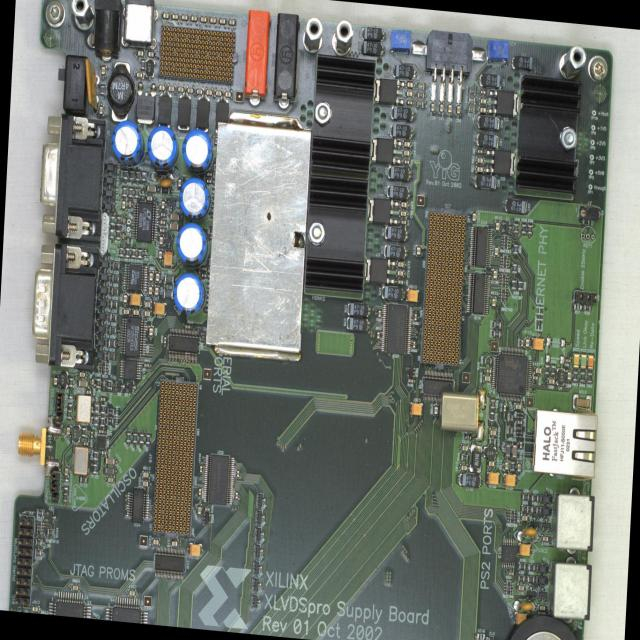Capacitor Jumper: (571, 392, 593, 412), (104, 455, 116, 466), (145, 184, 158, 194), (168, 222, 180, 231), (77, 381, 89, 390), (168, 213, 180, 221), (511, 443, 517, 459), (170, 12, 180, 21), (208, 16, 218, 25), (70, 583, 80, 592), (30, 604, 40, 613), (494, 220, 501, 232), (143, 300, 152, 309), (533, 366, 542, 375), (460, 443, 469, 452), (106, 475, 115, 484), (136, 49, 145, 58), (405, 89, 414, 98), (176, 85, 185, 94), (395, 269, 405, 277), (145, 194, 154, 202), (160, 198, 166, 210), (416, 245, 422, 257), (396, 260, 404, 269), (148, 270, 154, 282), (122, 292, 128, 304), (524, 336, 530, 348), (162, 11, 170, 20), (180, 13, 189, 21), (148, 326, 154, 338), (566, 369, 572, 381), (482, 374, 491, 382), (77, 370, 86, 378), (433, 404, 439, 416), (52, 375, 58, 387), (488, 428, 497, 436), (503, 460, 509, 472), (459, 463, 468, 471), (520, 514, 529, 522), (541, 534, 550, 542), (196, 503, 202, 515), (151, 537, 160, 545), (537, 604, 546, 612), (127, 589, 136, 597), (405, 81, 414, 89), (478, 98, 487, 106), (135, 71, 144, 79), (478, 106, 487, 114), (157, 84, 166, 92), (186, 86, 194, 95), (205, 88, 213, 97), (195, 87, 203, 96), (224, 90, 232, 99), (475, 148, 484, 156), (475, 156, 484, 164), (399, 200, 408, 208), (177, 178, 183, 190), (455, 104, 461, 115), (98, 104, 104, 115), (159, 234, 164, 247), (64, 465, 69, 478), (132, 308, 140, 316), (122, 308, 130, 316), (190, 14, 198, 22), (199, 15, 207, 23), (228, 18, 236, 26), (218, 18, 226, 26), (514, 402, 522, 410), (487, 459, 495, 467), (141, 480, 149, 488), (170, 539, 178, 547), (517, 583, 525, 591), (167, 84, 175, 92), (214, 90, 222, 98), (403, 140, 411, 148), (399, 210, 407, 218), (141, 471, 150, 478), (402, 150, 411, 157), (121, 199, 126, 211), (494, 245, 499, 257), (493, 270, 498, 282), (158, 248, 163, 260), (491, 296, 496, 308), (155, 271, 160, 283), (148, 284, 153, 296), (154, 284, 159, 296), (516, 461, 521, 473), (66, 424, 71, 436), (196, 486, 202, 496), (101, 64, 106, 76), (430, 101, 435, 113), (439, 102, 444, 114), (471, 212, 476, 224), (547, 378, 555, 385), (146, 51, 154, 58), (475, 166, 483, 173), (447, 103, 452, 114), (234, 491, 239, 500), (159, 227, 165, 234), (143, 362, 150, 368), (203, 506, 210, 512), (520, 338, 524, 348), (564, 358, 572, 363), (163, 335, 167, 345), (198, 464, 202, 474), (235, 470, 240, 478), (400, 219, 406, 225), (160, 212, 166, 218), (159, 220, 165, 226), (376, 331, 380, 340), (532, 374, 538, 380), (91, 377, 95, 386), (509, 426, 513, 435), (85, 390, 91, 396), (90, 429, 94, 438), (508, 570, 514, 576), (184, 324, 191, 329), (479, 90, 486, 95), (128, 200, 132, 208), (413, 312, 417, 320), (412, 340, 416, 348), (518, 440, 522, 448), (485, 369, 491, 374), (407, 378, 413, 383), (98, 429, 104, 434), (83, 441, 89, 446), (100, 450, 106, 455), (206, 179, 212, 184), (122, 217, 126, 224), (406, 101, 413, 105), (503, 403, 506, 412), (510, 413, 513, 422), (122, 232, 125, 240), (126, 237, 129, 245), (397, 280, 403, 284), (378, 309, 381, 317), (100, 397, 106, 401), (214, 136, 217, 144), (201, 274, 206, 278), (517, 420, 522, 424), (404, 160, 409, 164), (207, 172, 212, 176), (210, 232, 212, 240), (202, 267, 206, 271), (518, 426, 522, 430)
Clock: (437, 384, 489, 442), (70, 445, 90, 476), (74, 393, 94, 422)
Connector: (30, 241, 100, 371), (37, 112, 106, 242), (153, 372, 200, 538), (421, 206, 467, 372), (523, 401, 598, 482), (158, 26, 239, 86), (550, 484, 596, 558), (548, 554, 593, 626), (16, 413, 64, 478), (271, 13, 301, 110), (244, 10, 272, 106), (85, 0, 123, 63), (14, 512, 35, 606), (121, 0, 159, 50), (578, 205, 601, 221), (572, 290, 596, 303), (580, 232, 596, 240), (51, 492, 60, 503), (56, 412, 64, 423)
Diode: (125, 380, 136, 393), (114, 379, 124, 392), (485, 635, 497, 640)
EM: (102, 465, 116, 475), (536, 563, 548, 574), (535, 575, 548, 585), (103, 175, 116, 185), (103, 188, 115, 198), (102, 202, 114, 212), (94, 350, 106, 360), (540, 494, 552, 504), (538, 506, 550, 516), (104, 162, 116, 172), (97, 298, 108, 308), (95, 337, 107, 346), (504, 443, 511, 458), (98, 285, 109, 294), (99, 260, 111, 268), (98, 273, 110, 281), (96, 325, 108, 333)
Electrolytic Capacitor: (109, 118, 147, 169), (174, 221, 210, 270), (180, 127, 216, 176), (145, 124, 181, 173), (171, 271, 207, 317), (178, 176, 212, 222), (177, 94, 191, 130), (158, 92, 172, 128), (215, 98, 229, 134), (196, 97, 210, 133), (472, 173, 497, 190), (346, 316, 371, 332), (386, 184, 411, 200), (348, 302, 372, 318), (360, 40, 384, 56), (510, 56, 534, 72), (391, 105, 415, 121), (383, 244, 408, 259), (382, 285, 405, 301), (478, 73, 501, 89), (362, 27, 386, 42), (393, 64, 417, 79), (390, 124, 414, 139), (388, 165, 411, 180), (384, 226, 408, 240), (458, 473, 480, 488), (504, 198, 526, 213), (475, 134, 498, 148), (477, 116, 499, 130), (409, 402, 424, 416), (516, 542, 531, 556), (163, 248, 173, 268), (405, 289, 419, 303), (486, 471, 500, 485), (129, 293, 143, 306), (531, 337, 544, 351), (188, 543, 202, 556), (514, 612, 527, 625), (152, 302, 166, 314), (502, 474, 516, 486)
IC: (491, 345, 532, 403), (203, 453, 235, 506), (381, 302, 412, 356), (131, 200, 158, 243), (152, 546, 186, 580), (469, 223, 493, 270), (421, 370, 455, 403), (120, 315, 146, 358), (466, 270, 490, 316), (167, 328, 200, 361), (371, 136, 402, 165), (364, 257, 396, 285), (484, 148, 516, 176), (374, 77, 405, 105), (368, 197, 399, 225), (126, 486, 149, 523), (488, 90, 519, 117), (123, 262, 147, 292), (118, 358, 142, 380), (501, 538, 516, 570), (96, 434, 107, 449), (406, 366, 415, 378), (202, 512, 211, 524)
Inductor: (105, 62, 137, 122), (469, 443, 482, 472), (71, 424, 81, 443), (145, 59, 155, 78), (556, 368, 565, 387), (59, 370, 68, 389), (483, 446, 496, 458)
Jumper: (54, 389, 65, 413), (50, 471, 61, 493)
Led: (579, 352, 587, 370), (586, 353, 594, 370), (572, 352, 579, 368)
Pads: (545, 336, 566, 364), (67, 394, 73, 408), (573, 302, 582, 310), (63, 478, 69, 490), (476, 632, 485, 640), (142, 248, 148, 258), (140, 189, 144, 201), (464, 434, 471, 440)
Pins: (503, 580, 512, 594)
Resistor: (409, 27, 486, 105), (159, 185, 171, 196), (162, 289, 175, 299), (507, 509, 516, 523), (163, 274, 174, 283), (61, 491, 68, 504), (459, 453, 469, 462), (80, 426, 87, 438), (91, 462, 98, 474), (526, 223, 533, 235), (106, 408, 115, 417), (467, 96, 476, 105), (582, 304, 592, 312), (78, 475, 88, 483), (416, 82, 426, 90), (118, 245, 124, 258), (106, 378, 112, 391), (125, 431, 131, 444), (132, 431, 138, 444), (92, 449, 98, 462), (128, 169, 134, 182), (109, 214, 115, 226), (517, 279, 523, 291), (124, 246, 130, 258), (492, 330, 501, 338), (109, 296, 118, 304), (483, 357, 492, 365), (550, 364, 556, 376), (580, 370, 586, 382), (572, 370, 578, 382), (587, 372, 593, 384), (490, 398, 496, 410), (489, 410, 495, 422), (68, 376, 74, 388), (488, 436, 496, 445), (100, 403, 106, 415), (138, 432, 144, 444), (521, 493, 530, 501), (517, 562, 526, 570), (527, 563, 535, 572), (34, 538, 43, 546), (468, 87, 477, 95), (416, 90, 425, 98), (122, 168, 128, 180), (140, 170, 146, 182), (135, 170, 141, 182), (513, 222, 519, 234), (520, 223, 526, 235), (121, 185, 127, 197), (93, 416, 99, 427), (99, 84, 105, 95), (67, 408, 72, 421), (128, 186, 133, 199), (134, 186, 139, 199), (112, 262, 120, 270), (493, 321, 501, 329), (109, 313, 117, 321), (109, 326, 117, 334), (108, 339, 116, 347), (107, 352, 115, 360), (106, 417, 114, 425), (531, 494, 539, 502), (521, 504, 529, 512), (530, 506, 538, 514), (36, 508, 44, 516), (46, 528, 54, 536), (526, 576, 534, 584), (517, 574, 525, 582), (34, 548, 42, 556), (467, 104, 475, 112), (110, 288, 119, 295), (581, 218, 590, 225), (513, 243, 518, 255), (116, 215, 121, 227), (115, 227, 120, 239), (109, 228, 114, 240), (137, 247, 142, 259), (131, 247, 136, 259), (544, 364, 549, 376), (96, 377, 101, 389), (100, 416, 105, 428), (510, 460, 515, 472), (145, 432, 150, 444), (140, 59, 145, 71), (111, 275, 119, 282), (416, 100, 424, 107), (512, 263, 517, 274), (511, 280, 516, 290), (521, 412, 524, 418), (213, 163, 215, 171), (520, 431, 522, 438), (516, 432, 518, 438), (517, 412, 519, 417)
Resistor Network: (502, 255, 512, 269), (498, 288, 508, 302), (98, 360, 108, 374), (34, 520, 44, 534), (501, 235, 510, 249), (499, 274, 508, 288)
Switch: (56, 53, 90, 113)
Test Point: (591, 110, 596, 116), (591, 124, 596, 130), (590, 139, 595, 145), (588, 169, 593, 175), (126, 226, 130, 232), (589, 154, 593, 160), (588, 184, 592, 190)
Transistor: (135, 82, 156, 125), (166, 197, 176, 213), (253, 526, 264, 540), (253, 543, 264, 557), (164, 233, 174, 248), (45, 510, 56, 523), (529, 516, 539, 530), (256, 492, 266, 506), (255, 509, 265, 523), (252, 560, 262, 574), (526, 586, 536, 600), (251, 576, 261, 590), (250, 594, 260, 608), (542, 517, 551, 532), (538, 587, 547, 602), (502, 220, 512, 233)
